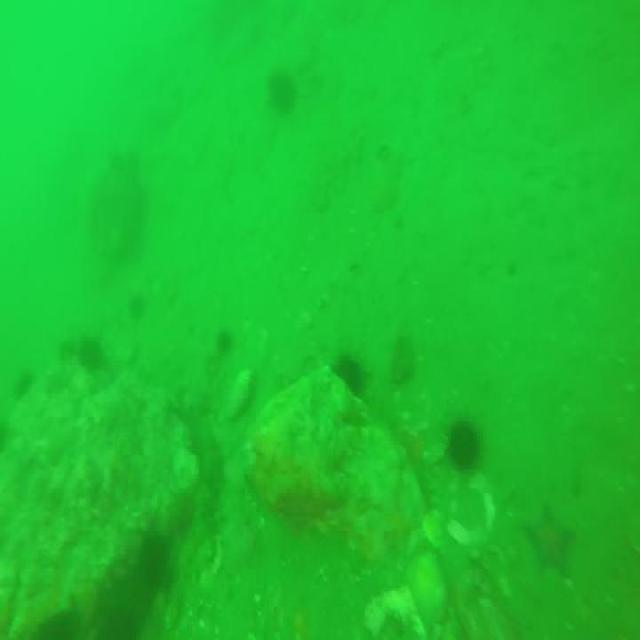echinus: (264, 68, 301, 118), (442, 414, 477, 465), (332, 351, 372, 390), (73, 335, 106, 376), (214, 332, 236, 352)
scallop: (404, 558, 448, 626), (423, 510, 448, 550)
starfish: (524, 504, 576, 575)
